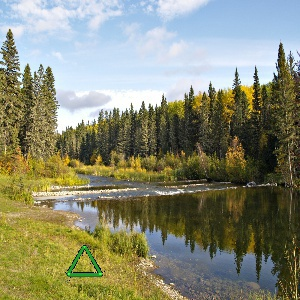triangle: (64, 242, 104, 278)
